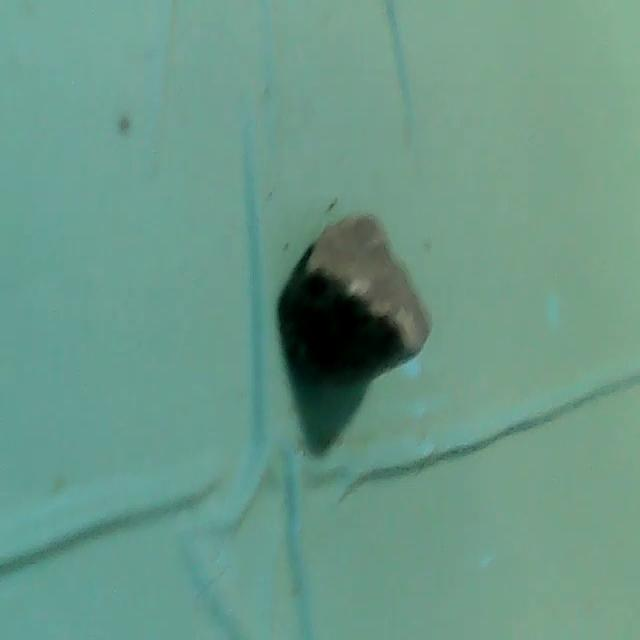rock: (276, 206, 438, 384)
